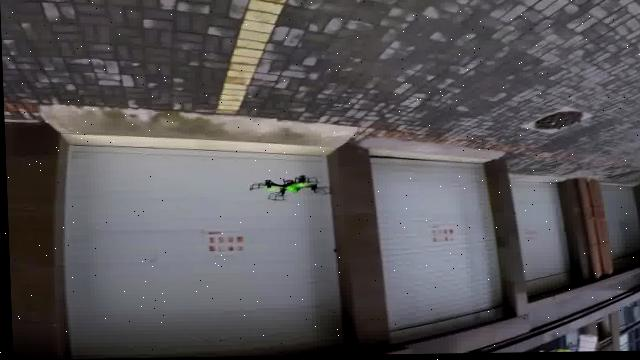drone: (243, 166, 336, 211)
